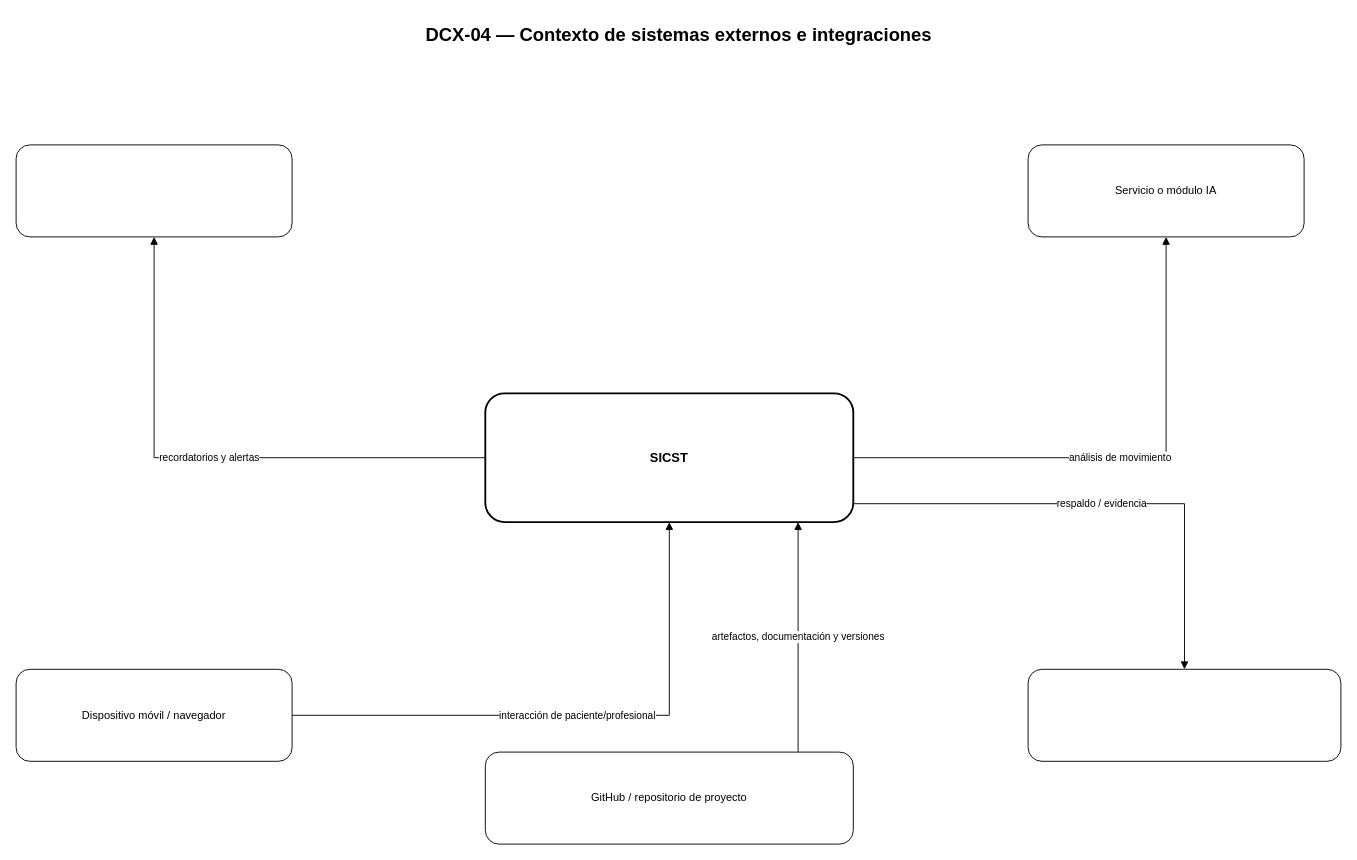
Some shapes in this 1357 by 860 pixel diagram are drawn without their labels. Here are the shapes that lost their labels. From the top down, the centre of each, then its label:
At pixel 153 190: "Correo / mensajería para avisos".
At pixel 1184 714: "Almacenamiento / repositorio institucional".
